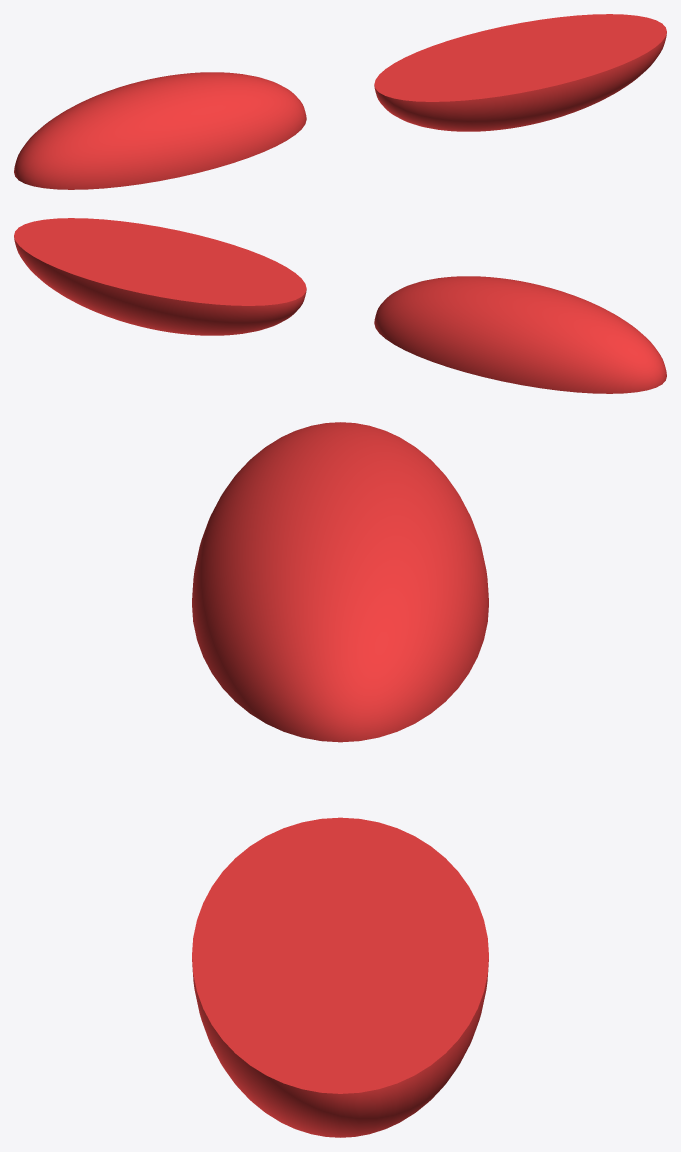
The model's file is jiaobei.gltf.
3 renders of one model, top to bottom at view 1: azimuth 30°, elevation 25°; view 2: azimuth 150°, elevation 25°; view 3: azimuth 270°, elevation 25°, orthographic. The views are drawn at different scales.
Visible parts, largest first — view 1: jiaobei_node_0, jiaobei_node_1; view 2: jiaobei_node_0, jiaobei_node_1; view 3: jiaobei_node_0, jiaobei_node_1.
Boxes of the visible parts, left/top/right/bottom form: jiaobei_node_0: left=14, top=72, right=306, bottom=189; jiaobei_node_1: left=374, top=14, right=666, bottom=131; jiaobei_node_0: left=374, top=276, right=666, bottom=393; jiaobei_node_1: left=14, top=218, right=306, bottom=335; jiaobei_node_0: left=192, top=422, right=488, bottom=742; jiaobei_node_1: left=192, top=817, right=488, bottom=1137.
Bounding box in the file's own units: 2.5 × 0.44 × 0.5.
